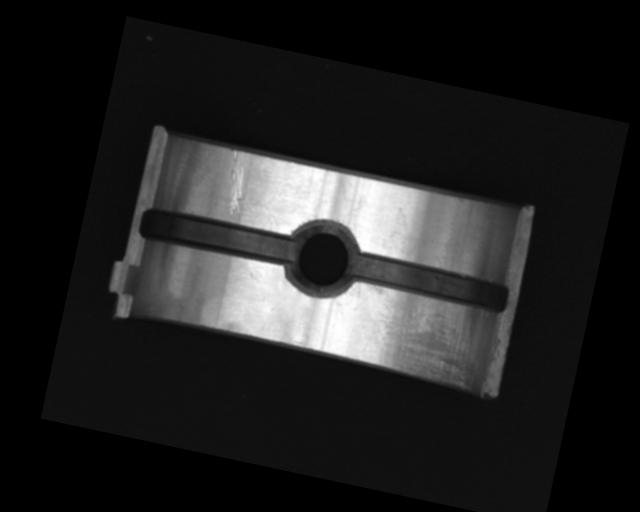gap: (347, 248, 511, 315), (136, 203, 297, 269)
hole: (279, 216, 365, 303)
nick: (219, 148, 254, 217)
scratch: (354, 284, 493, 396)
